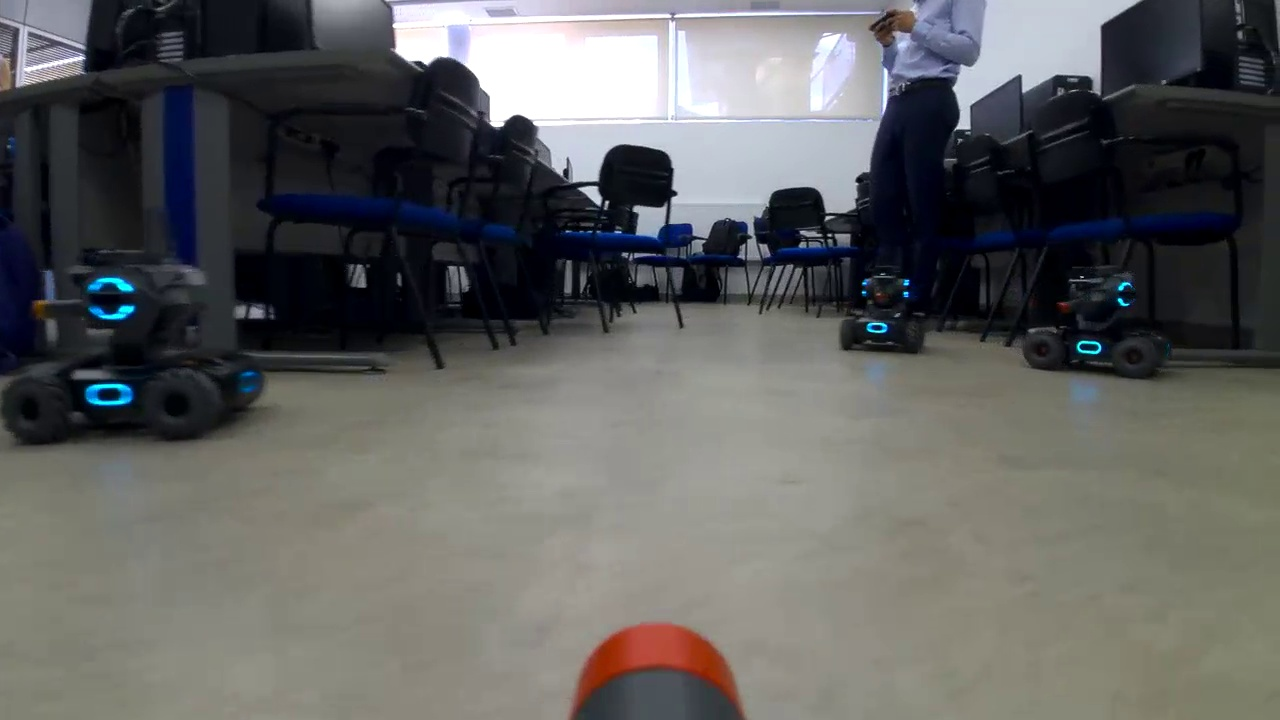robot: (1, 235, 271, 459), (1016, 258, 1172, 385), (835, 260, 924, 359)
